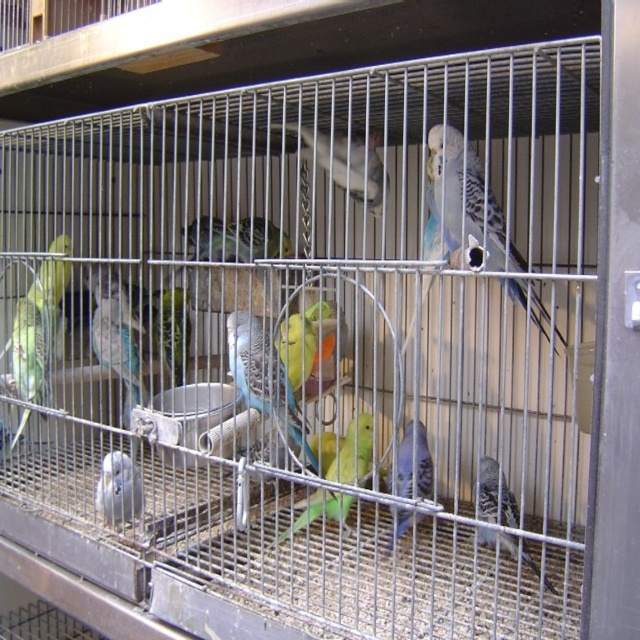Parrot: (426, 121, 570, 358), (226, 310, 342, 497), (264, 409, 380, 555), (472, 457, 561, 593), (260, 129, 391, 214), (0, 231, 74, 355), (90, 303, 142, 436), (8, 294, 50, 449), (181, 216, 293, 274), (388, 417, 435, 549), (80, 255, 149, 326), (100, 449, 150, 535), (154, 285, 194, 390), (272, 305, 317, 395), (307, 299, 344, 362), (314, 430, 341, 476)
